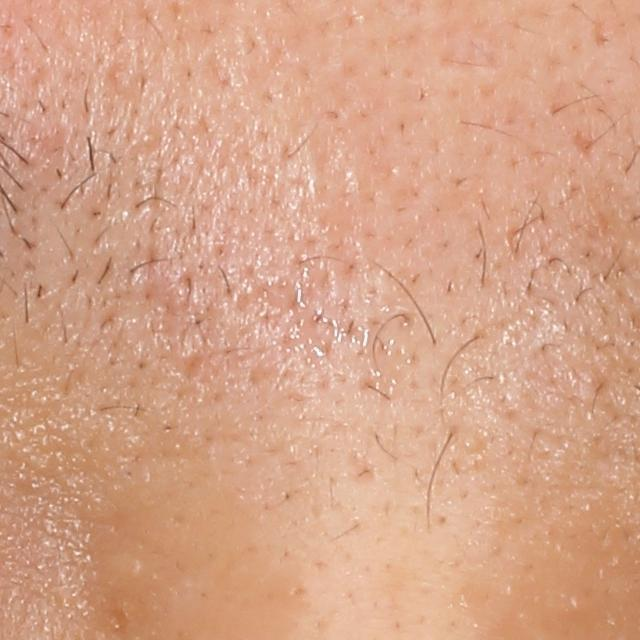atrophic_scar: (344, 443, 378, 486), (570, 129, 601, 164), (178, 353, 206, 386), (588, 10, 608, 54)
